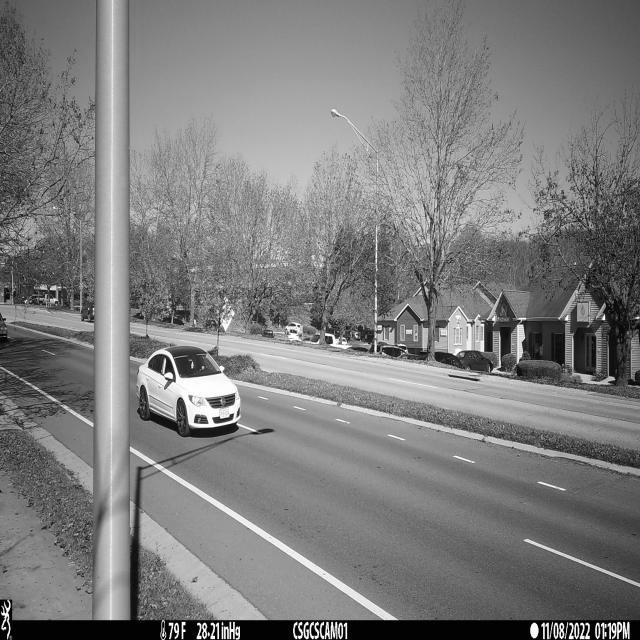Sedan: (135, 346, 242, 437)
